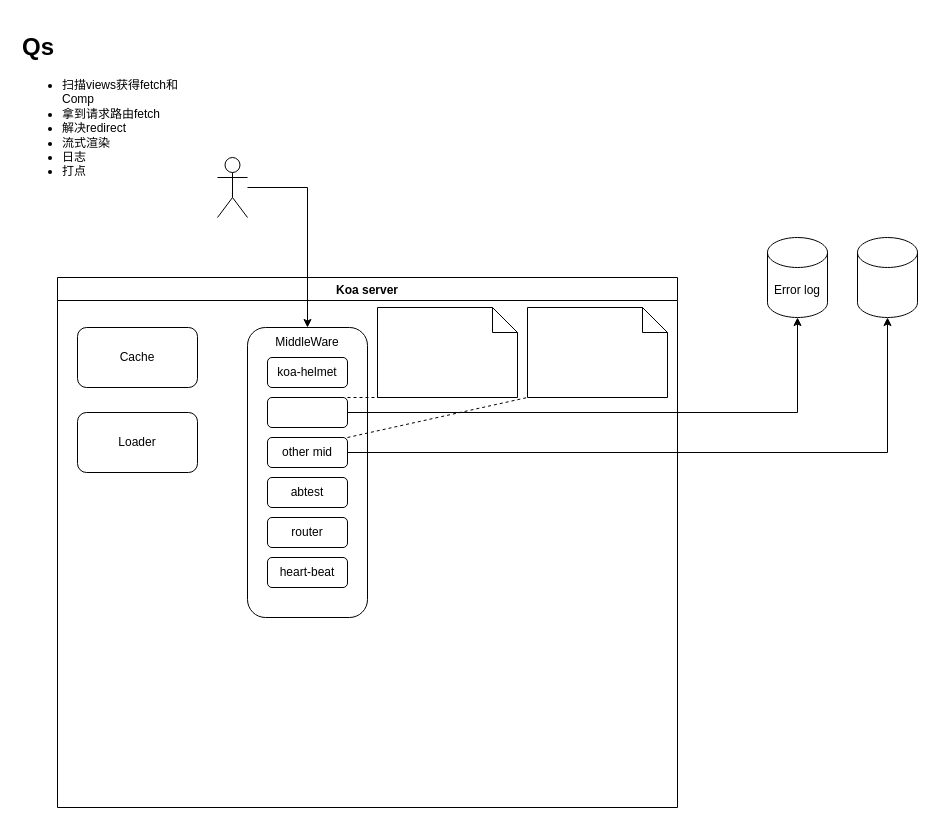
Image size: 935x825. Some labels were removed from this diagram. Each missing label, with the centre of its shape:
"error handle" belongs at (x=307, y=412).
"Request" belongs at (x=232, y=187).
"transaction log" belongs at (x=887, y=277).
"处理404 错误日志上报 统一错误页面" belongs at (x=447, y=352).
"请求日志上报 注入logger 性能打点 身份凭证解析" belongs at (x=597, y=352).
